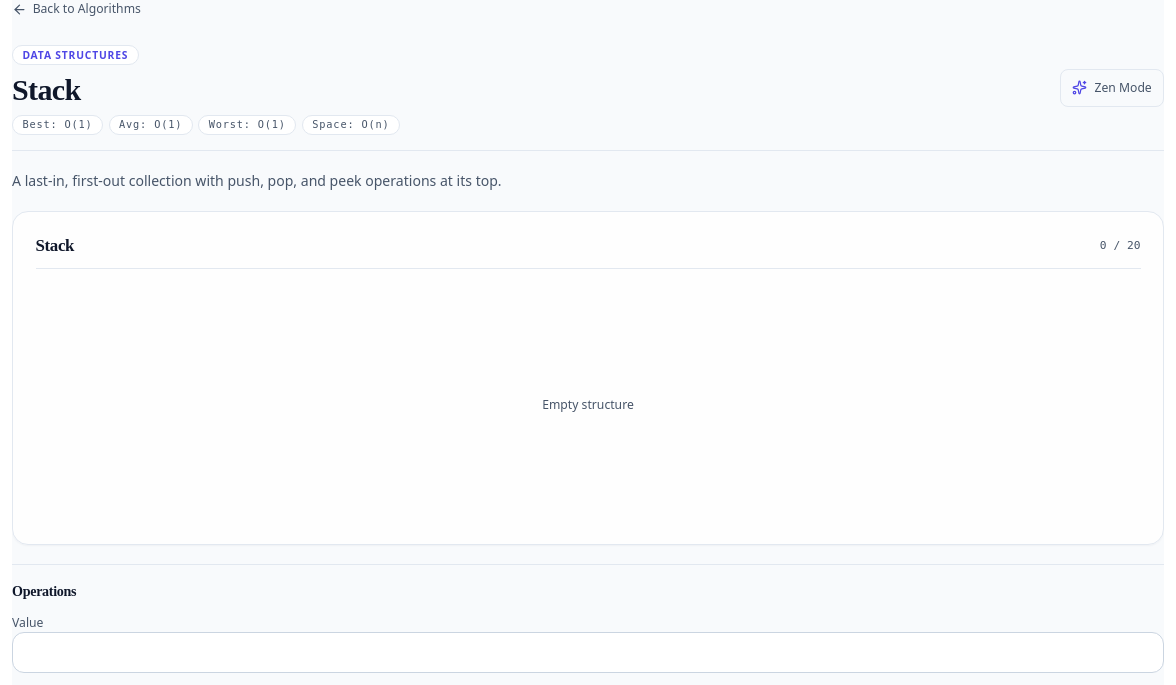
Test: data structure visualizers › routes stack actions through the playback timeline
Type "alpha" into the field labelled "Value" at (588, 653), box [12,632,1164,674]
(page scrolled)
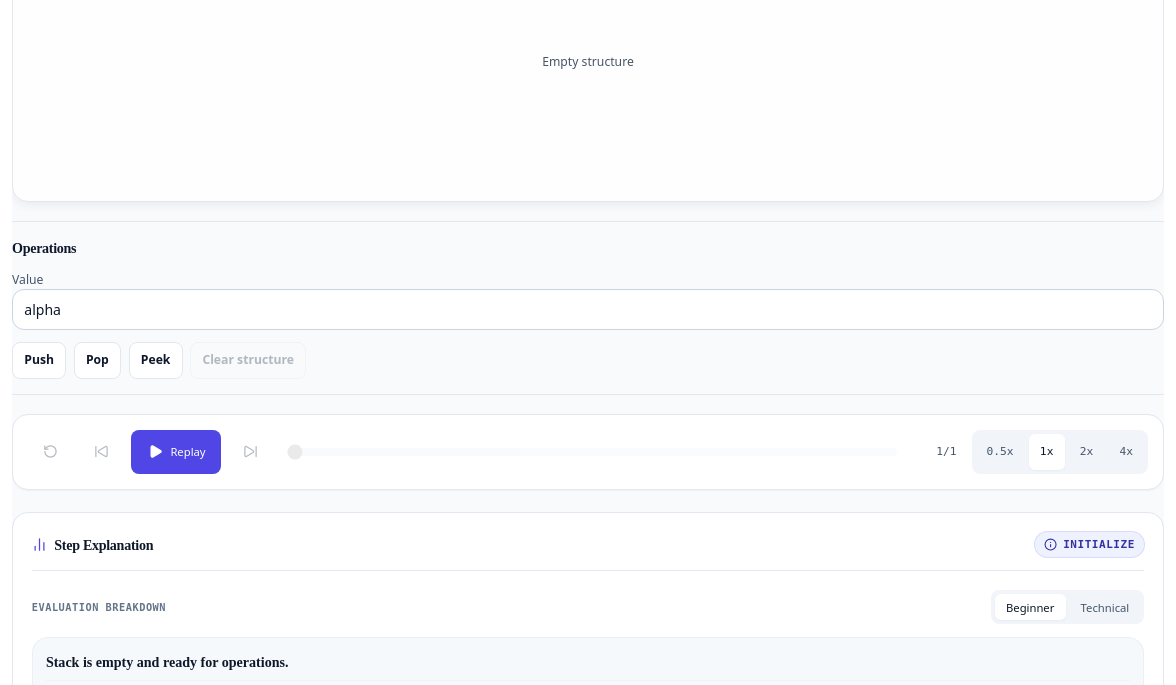
Click the button "Push" at (39, 360), box [12,342,66,379]
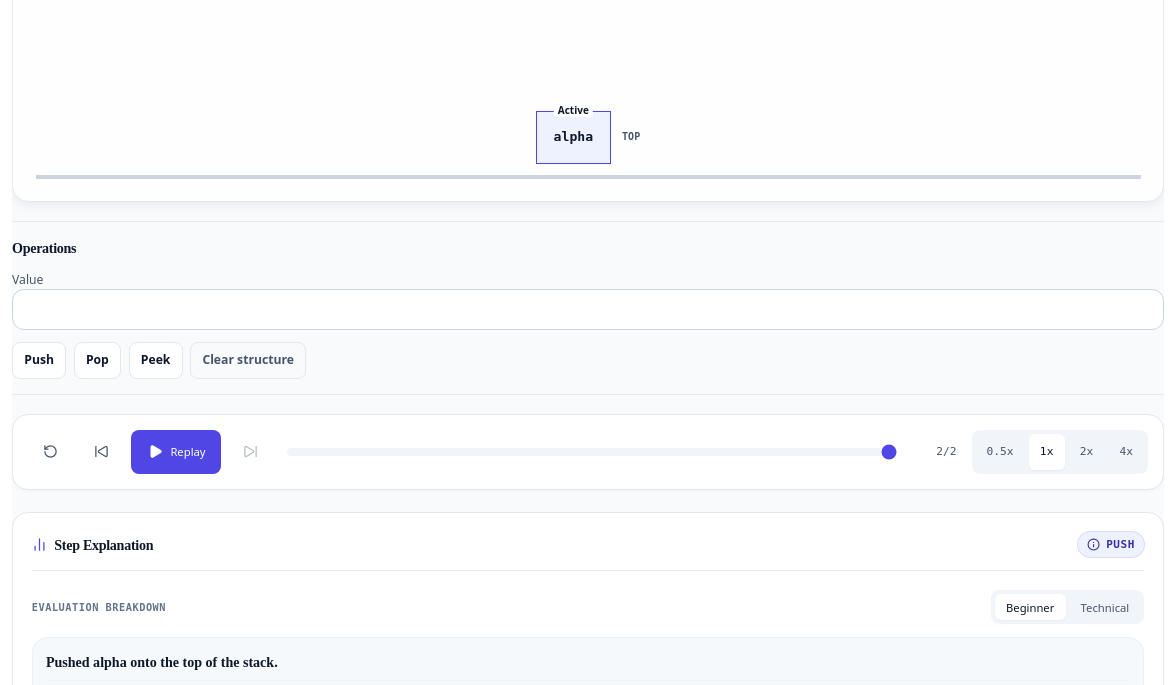
Expected: the text "Pushed alpha onto the top of the stack." is shown, [46,654,278,670]
Expected: the text "alpha" is shown, [554,128,593,147]
Click the button "Pop" at (97, 360), box [74,342,121,379]
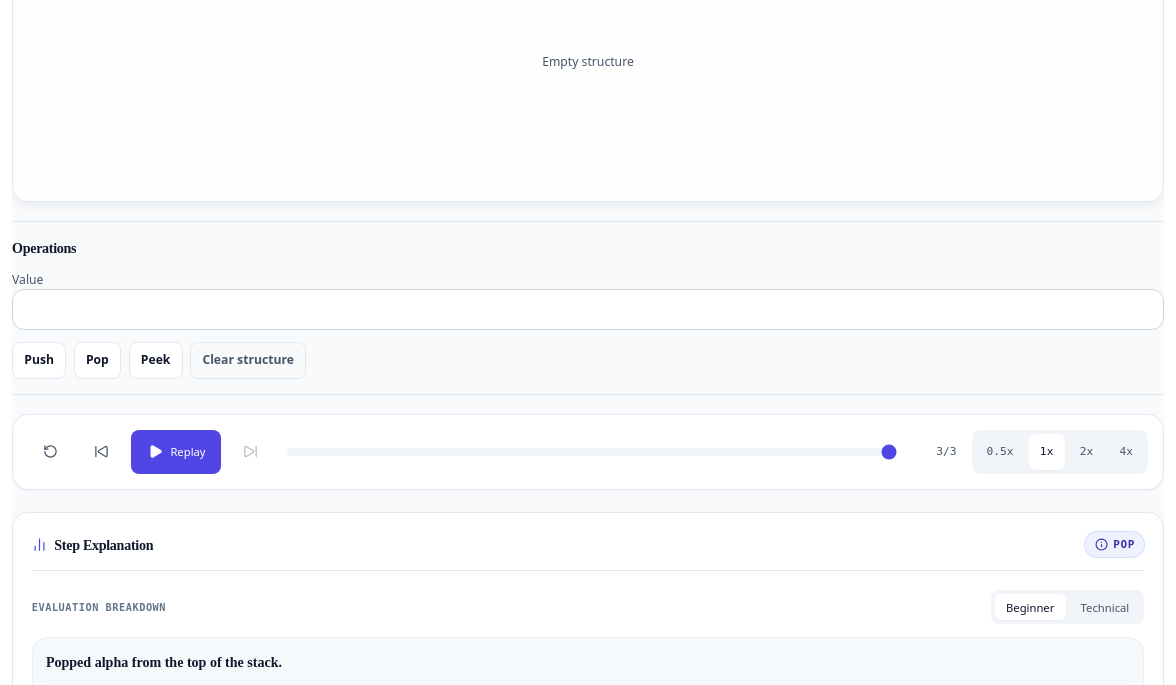
Expected: the text "Popped alpha from the top of the stack." is shown, [46,654,282,670]
Click the button named "Step backward" at (102, 452), box [80,430,124,474]
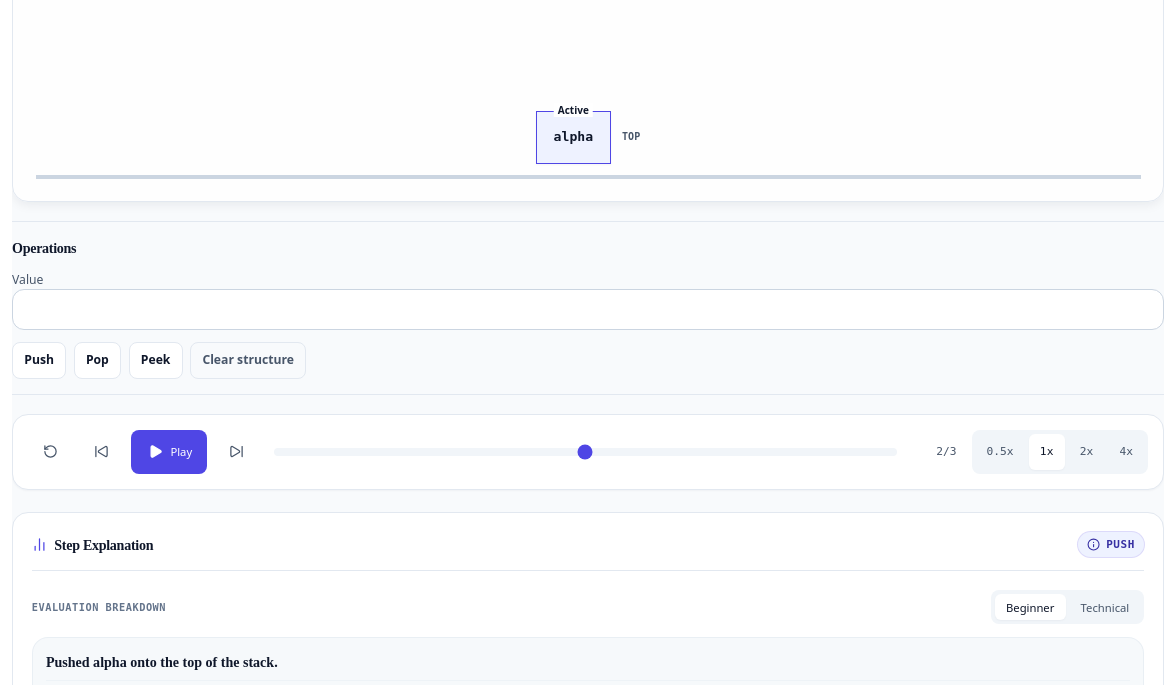
Expected: the text "Pushed alpha onto the top of the stack." is shown, [46,654,278,670]
Click the radio button labelled "2x" at (1086, 452), box [1068,434,1104,470]
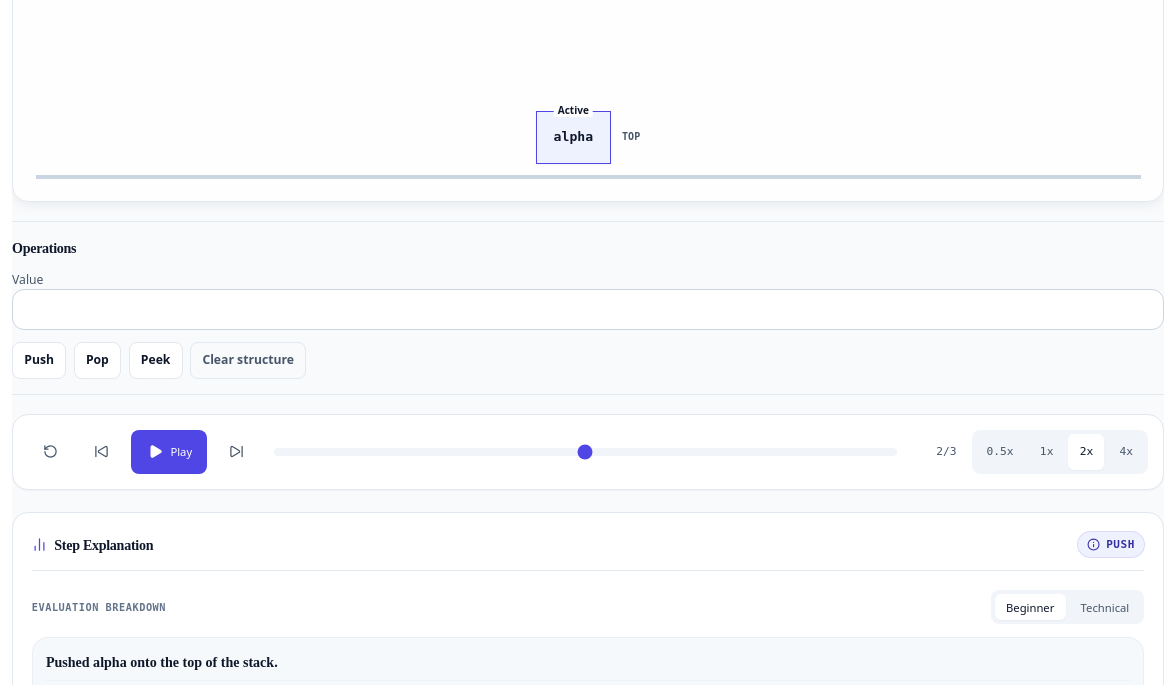
Expected: the radio button labelled "2x" is checked, [1068,434,1104,470]
Click the button named "Reset visualizer to step 0" at (50, 452), box [28,430,72,474]
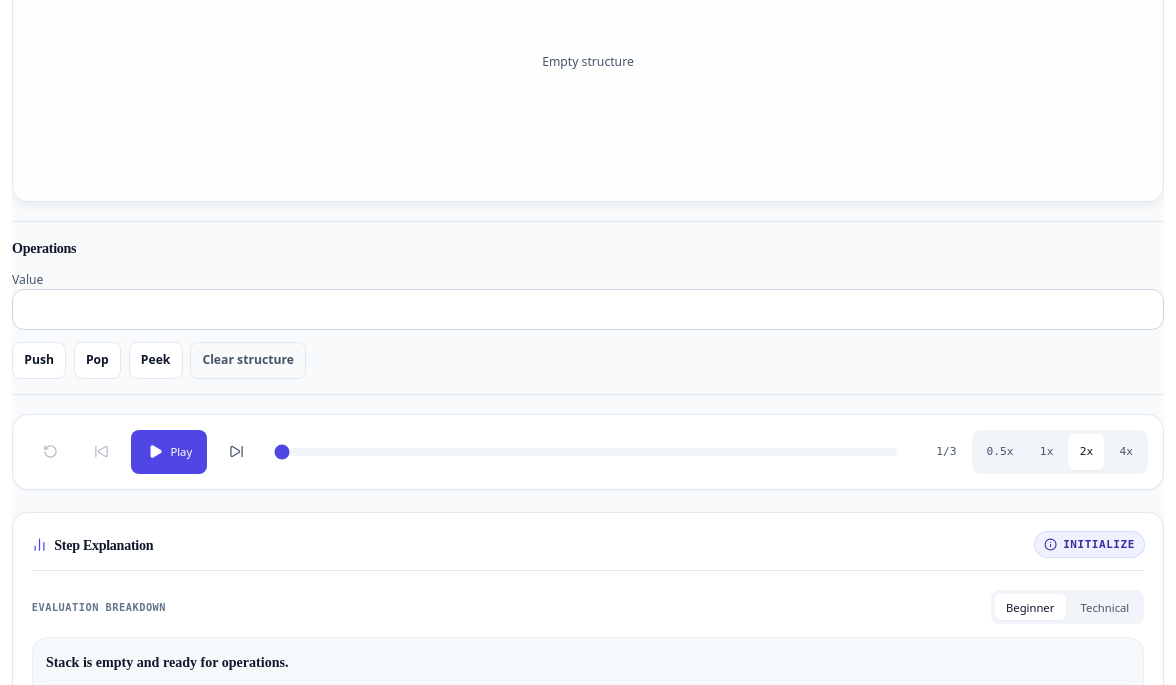
Expected: the text "Stack is empty and ready for operations." is shown, [46,654,288,670]
